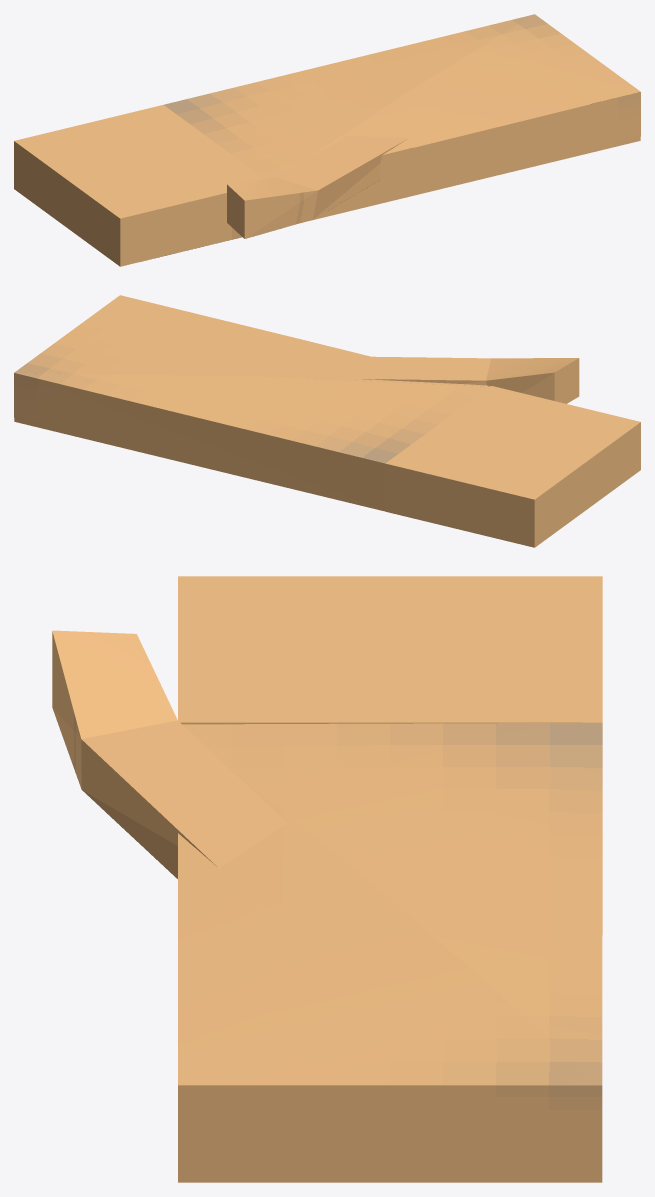
The model's file is hand.glb.
3 renders of one model, top to bottom at view 1: azimuth 30°, elevation 25°; view 2: azimuth 150°, elevation 25°; view 3: azimuth 270°, elevation 25°, orthographic. The views are drawn at different scales.
Visible parts, largest first — view 1: Mesh_1.001; view 2: Mesh_1.001; view 3: Mesh_1.001.
Boxes of the visible parts, x1,y1,x2,y2 form: Mesh_1.001: (14, 14, 640, 266); Mesh_1.001: (14, 295, 640, 547); Mesh_1.001: (52, 576, 602, 1182).
Bounding box in the file's own units: 1.13 × 0.1402 × 0.5185.
2 materials, 2 textured.
